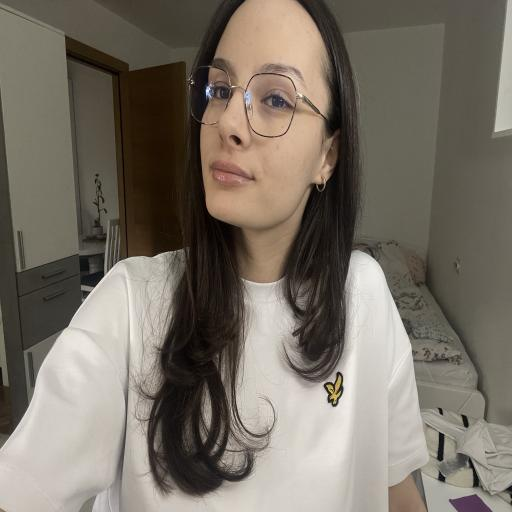marija: (200, 2, 334, 227)
